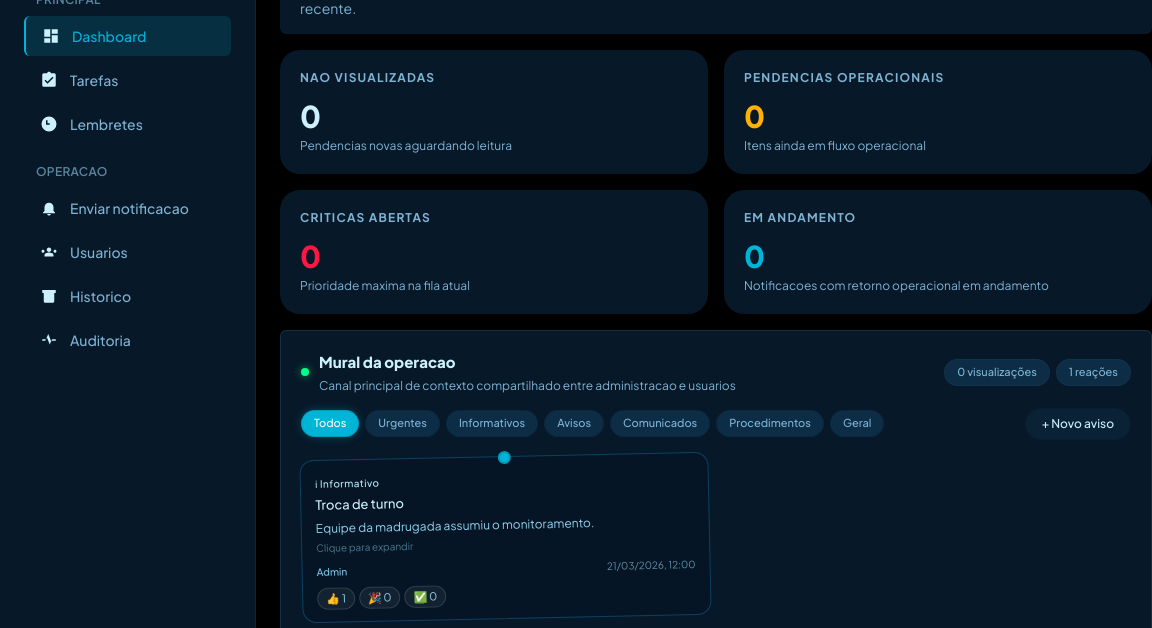
Scenario: AdminDashboard › cria usuario sem recarregar a lista completa
Click the button "Usuarios" at point(128, 252), box x1=24 y1=232 x2=231 y2=272
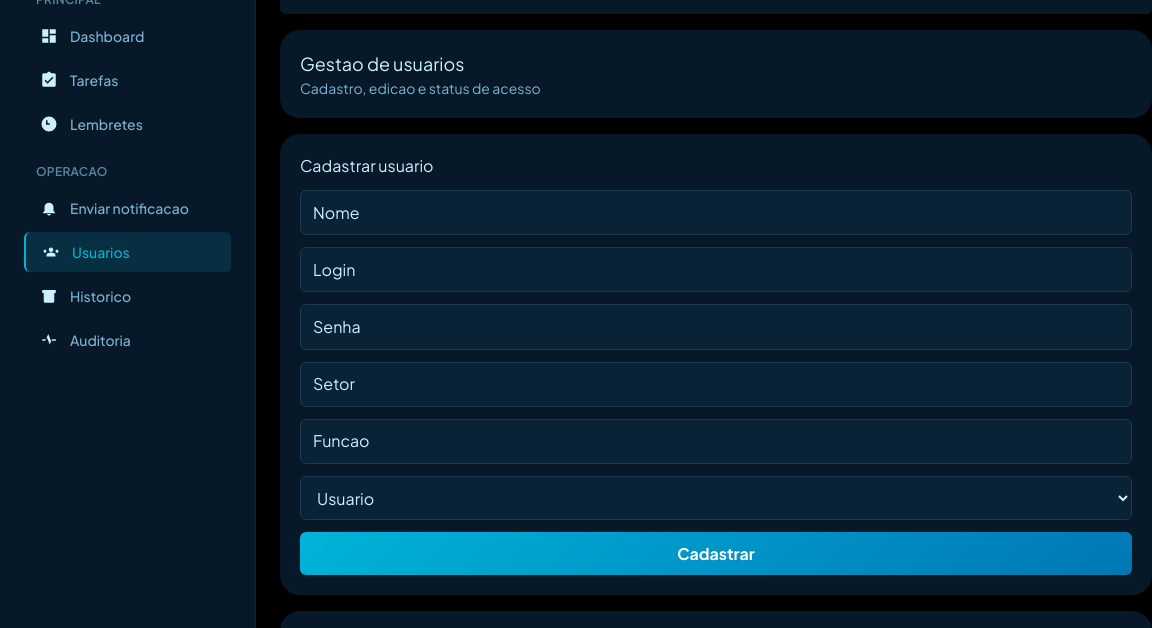
Now the text "Cadastrar usuario" is shown, box x1=300 y1=155 x2=434 y2=176
Type "Novo Usuario" into the field with placeholder "Nome" at point(716, 213), box x1=300 y1=190 x2=1132 y2=235
Type "novo.usuario" into the field with placeholder "Login" at point(716, 270), box x1=300 y1=247 x2=1132 y2=292
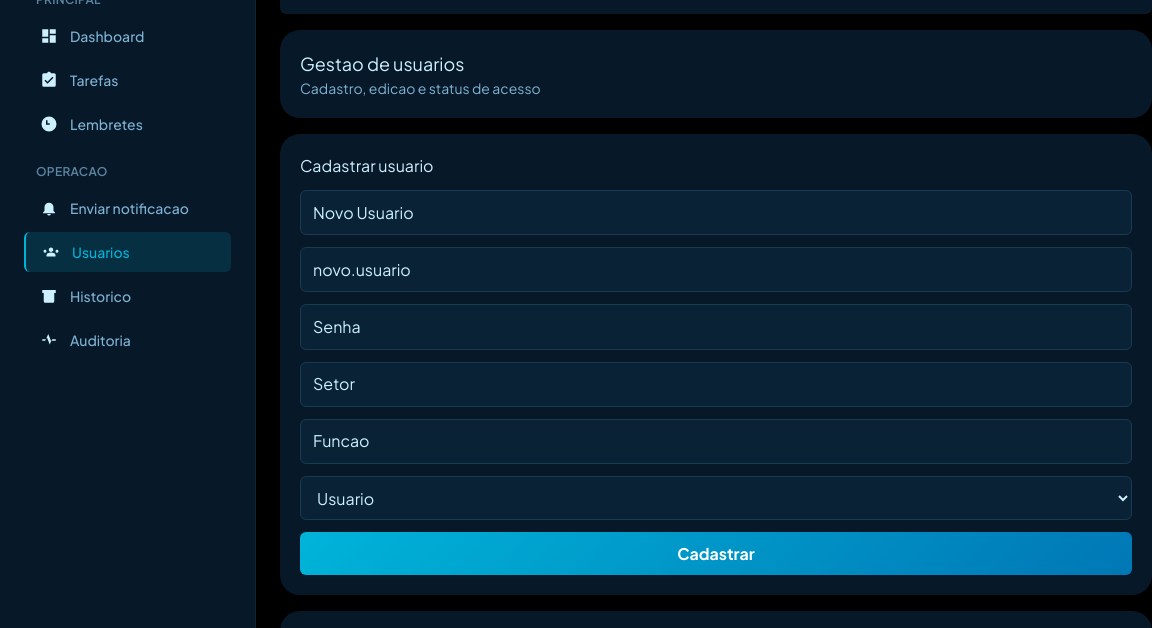
Type "senha-segura" into the password field with placeholder "Senha" at point(716, 327), box x1=300 y1=304 x2=1132 y2=350
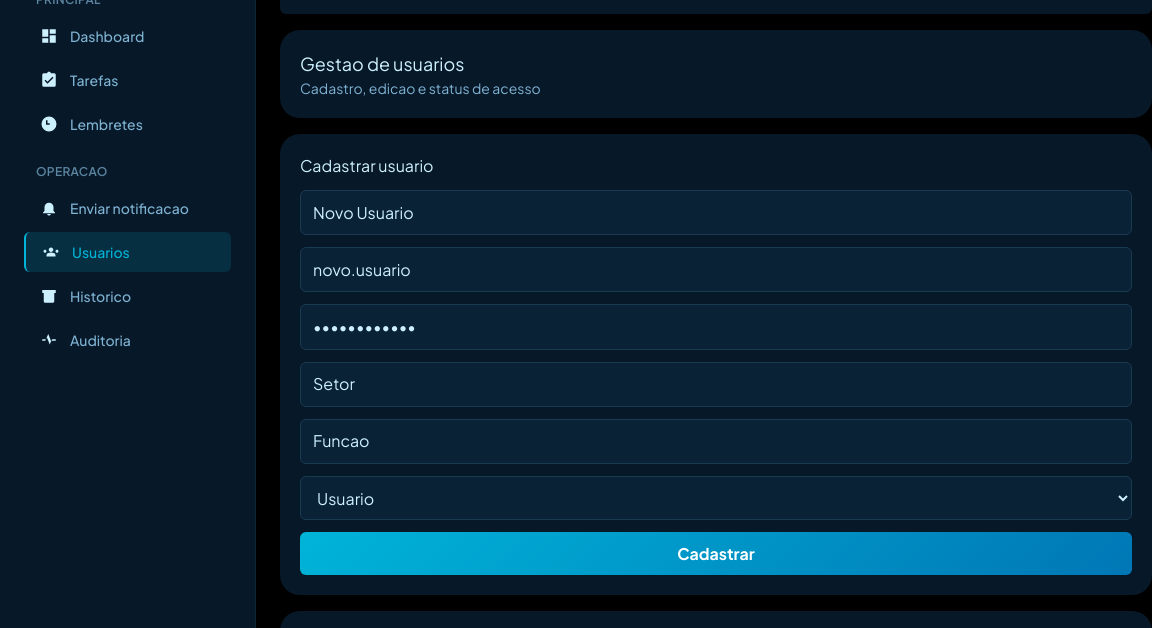
Type "Campo" into the field with placeholder "Setor" at point(716, 384), box x1=300 y1=362 x2=1132 y2=407
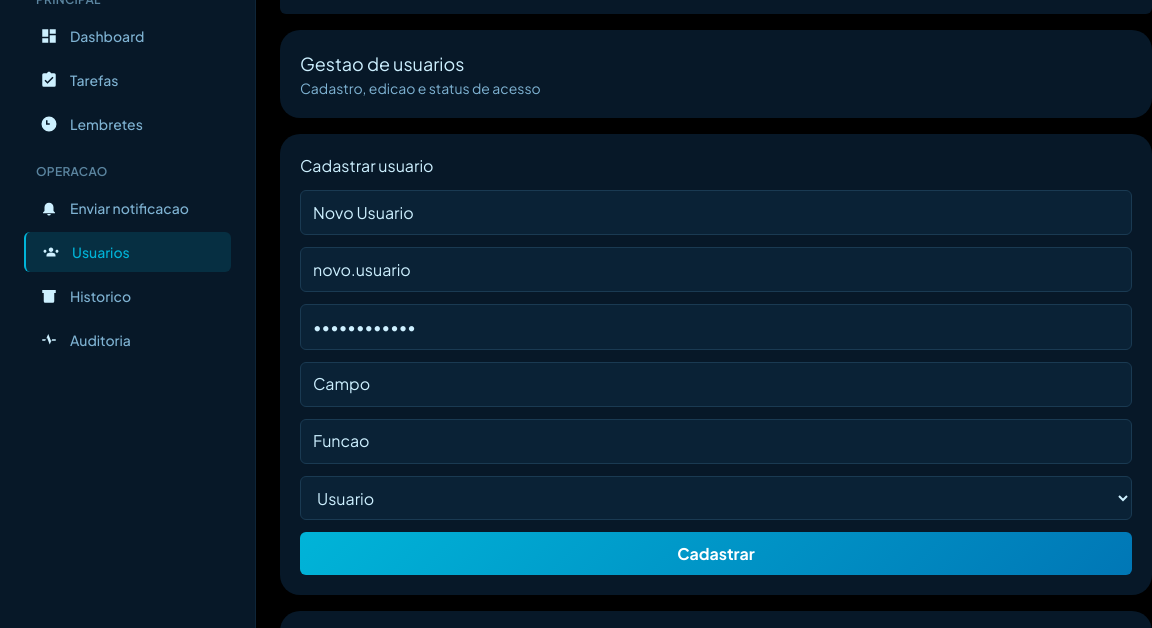
Type "Tecnico" into the field with placeholder "Funcao" at point(716, 441), box x1=300 y1=419 x2=1132 y2=464
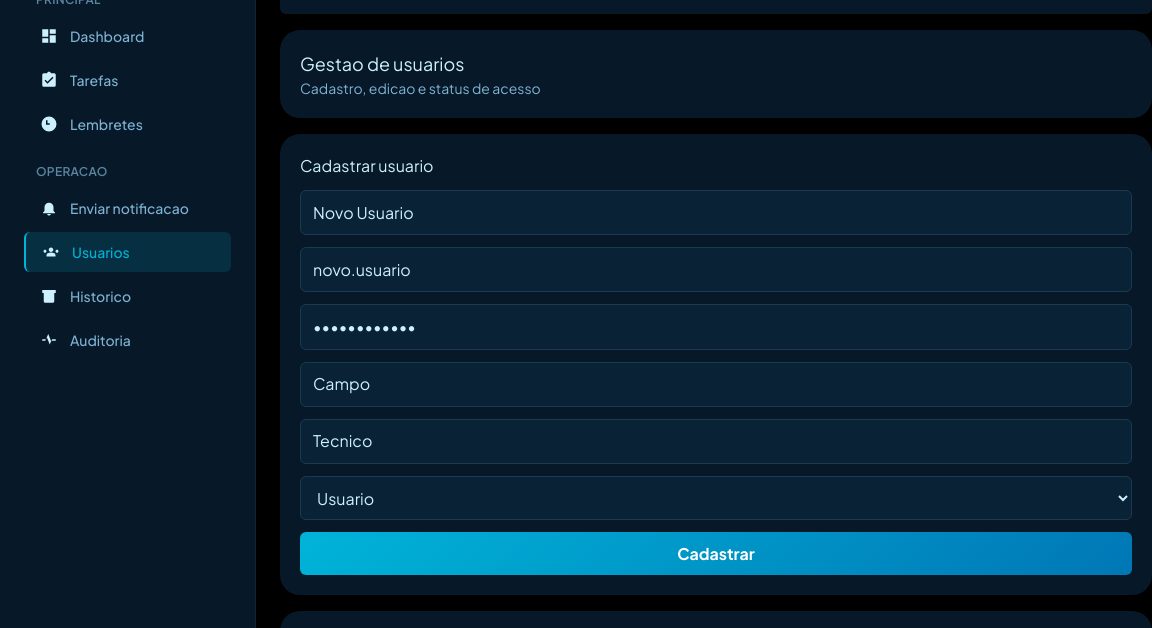
Click the button "Cadastrar" at point(716, 554), box x1=300 y1=532 x2=1132 y2=575
(page scrolled)
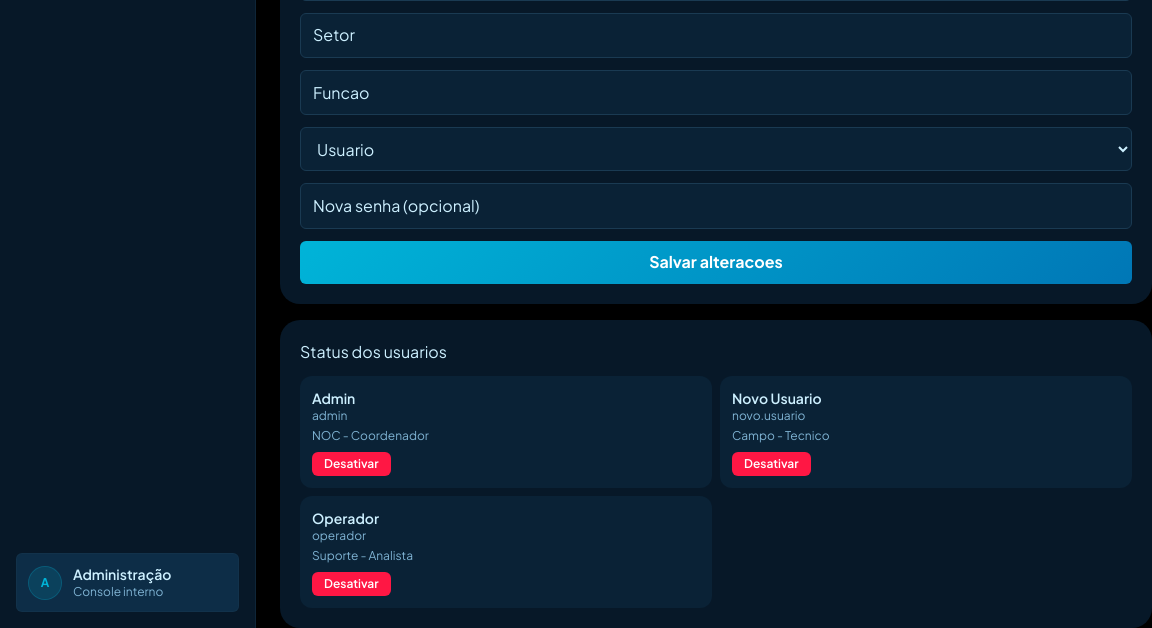
Now the text "Novo Usuario" is shown, box x1=732 y1=389 x2=822 y2=407
